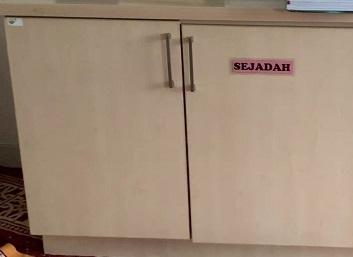cabinet_door: (184, 28, 351, 245), (16, 20, 183, 237)
handle: (163, 31, 176, 91), (186, 34, 199, 93)
